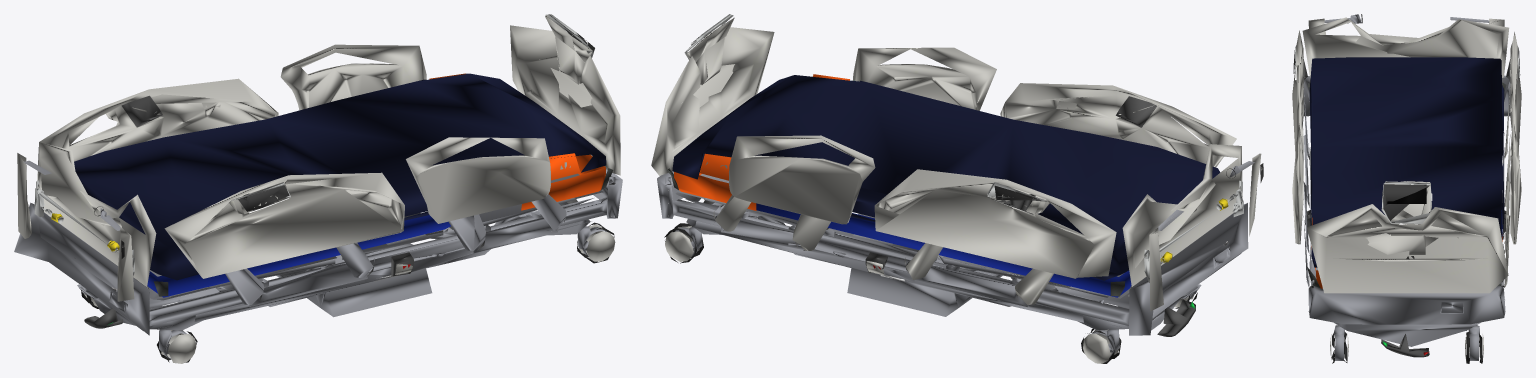
File: bed.glb
3 views of the same model, side by side, from view 1: azimuth 30°, elevation 25°; view 2: azimuth 150°, elevation 25°; view 3: azimuth 270°, elevation 25° (orthographic). The views are drawn at different scales.
Parts seen in each view (by area): view 1: body; view 2: body; view 3: body.
Part boxes in pixels (x1,y1,x2,y2): body: (14,14,622,363); body: (651,14,1263,363); body: (1292,14,1521,363).
Bounding box in the file's own units: 2.28 × 0.8765 × 1.
Materials: 19 (6 with a texture image).
